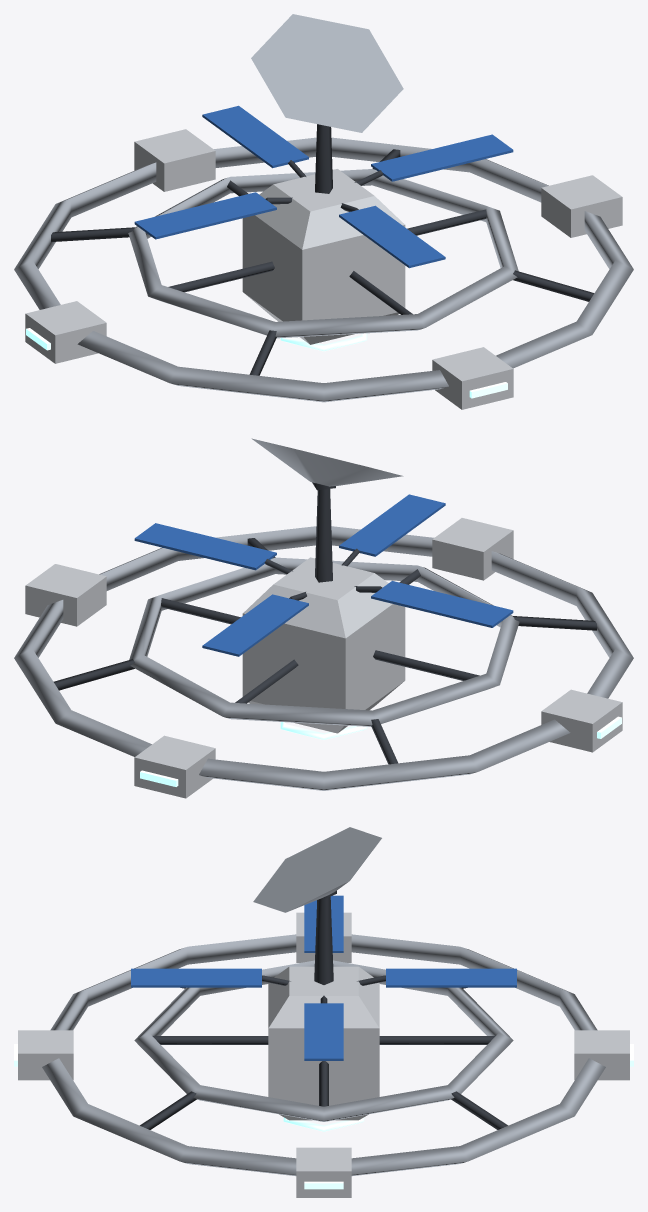
The model's file is ResearchLab_L4.glb.
3 views of the same model, one above another, from view 1: azimuth 30°, elevation 25°; view 2: azimuth 150°, elevation 25°; view 3: azimuth 270°, elevation 25° (orthographic). The views are drawn at different scales.
Parts seen in each view (by area): view 1: outer_ring, lab_core, deep_space_dish, observation_ring, ring_module_3, ring_module_0, ring_module_1, ring_module_2, solar_array_L, solar_array_R, solar_array_aft_R, solar_array_aft_L (+7 smaller); view 2: outer_ring, lab_core, observation_ring, ring_module_1, ring_module_0, ring_module_3, ring_module_2, solar_array_L, solar_array_R, solar_array_aft_L, solar_array_aft_R, deep_space_dish (+7 smaller); view 3: outer_ring, lab_core, observation_ring, deep_space_dish, solar_array_aft_R, solar_array_aft_L, ring_module_0, ring_module_1, ring_module_3, solar_array_R, mast, solar_array_L (+5 smaller).
Boxes of the visible parts, x1,y1,x2,y2 form: outer_ring: (14,137,633,402); lab_core: (242,169,405,344); deep_space_dish: (251,14,403,132); observation_ring: (128,169,518,338); ring_module_3: (134,129,215,191); ring_module_0: (541,175,622,237); ring_module_1: (432,347,513,409); ring_module_2: (25,301,106,363); solar_array_L: (134,192,276,239); solar_array_R: (371,134,513,181); solar_array_aft_R: (339,205,445,268); solar_array_aft_L: (202,105,308,168); outer_ring: (14,526,633,790); lab_core: (242,557,405,733); observation_ring: (129,557,519,726); ring_module_1: (432,518,513,580); ring_module_0: (25,564,106,626); ring_module_3: (134,735,215,798); ring_module_2: (541,689,622,752); solar_array_L: (371,581,513,627); solar_array_R: (134,523,276,570); solar_array_aft_L: (202,594,308,656); solar_array_aft_R: (339,494,445,556); deep_space_dish: (251,438,403,486); outer_ring: (42,934,605,1176); lab_core: (268,966,379,1120); observation_ring: (134,960,513,1121); deep_space_dish: (253,827,381,912); solar_array_aft_R: (131,968,261,987); solar_array_aft_L: (386,968,516,987); ring_module_0: (296,1147,351,1197); ring_module_1: (18,1030,73,1080); ring_module_3: (574,1030,629,1080); solar_array_R: (304,1003,343,1060); mast: (314,896,333,984); solar_array_L: (304,895,343,952).
Size of the model in its own units: 550 by 271 by 550.
